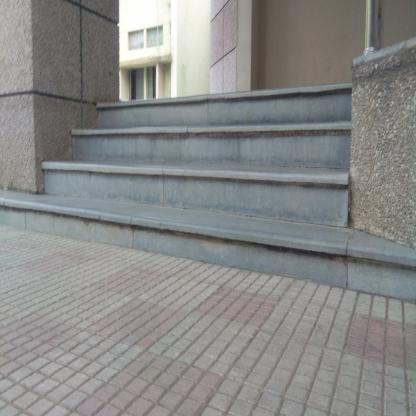stairs: (96, 94, 346, 261)
